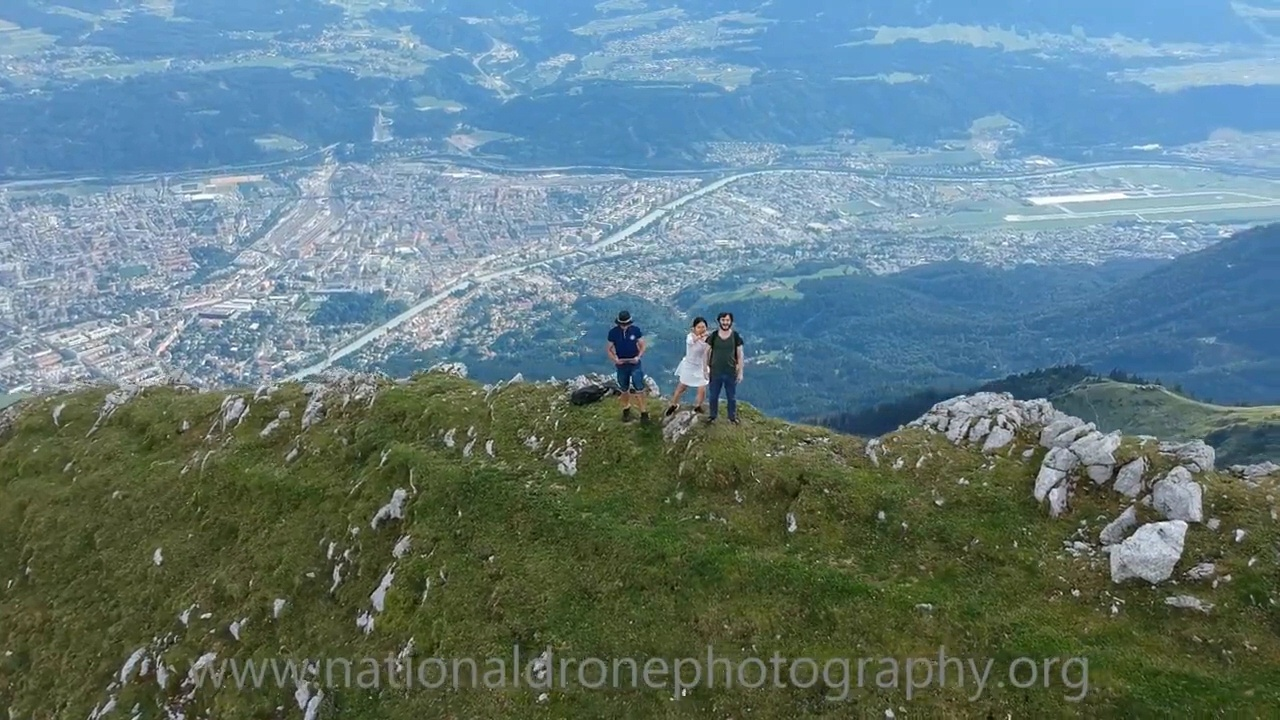insan: (607, 312, 651, 427), (668, 315, 712, 416), (710, 311, 746, 425)
